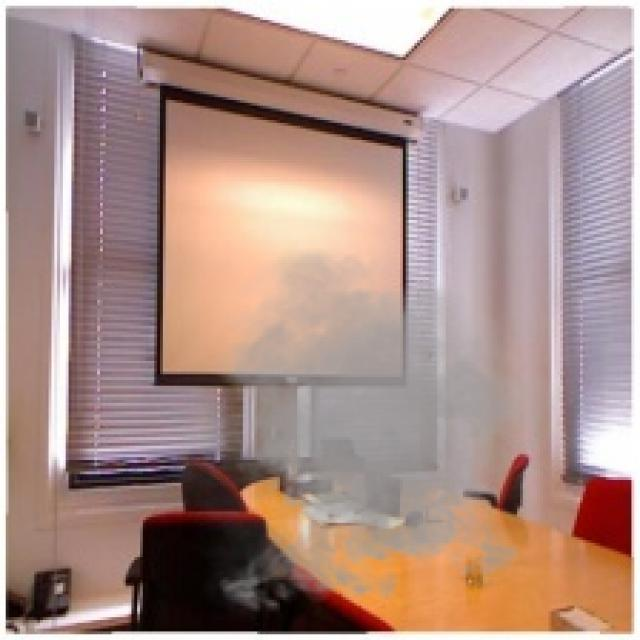Smoke: (157, 243, 583, 623)
